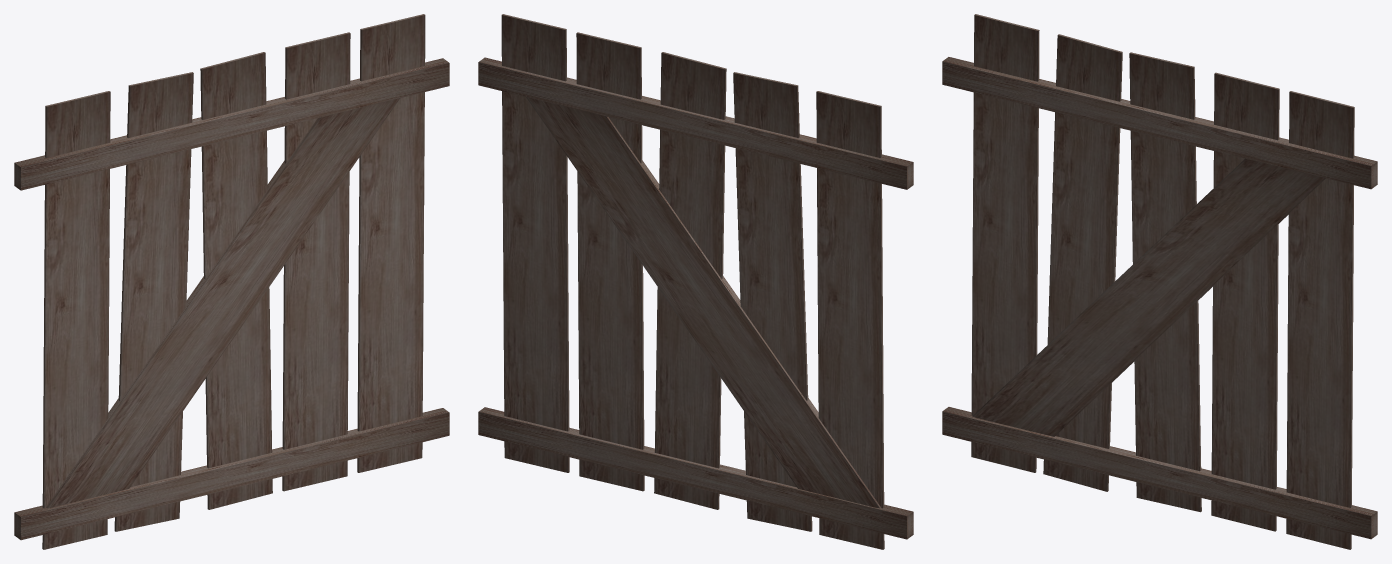
The model's file is wood wall.FBX.
The picture shows the model from 3 angles, left to right: view 1: azimuth 30°, elevation 25°; view 2: azimuth 150°, elevation 25°; view 3: azimuth 330°, elevation 25°; orthographic projection.
Visible parts, largest first — view 1: Plank2 (×2), Cross, Plank3, Plank4, Plank1, Top, Bottom; view 2: Plank2 (×2), Cross, Plank3, Plank4, Plank1, Top, Bottom; view 3: Plank2 (×2), Cross, Plank3, Plank4, Plank1, Top, Bottom.
Part boxes in pixels (x1,y1,x2,y2): Plank2 (×2): (42, 14, 425, 549); Cross: (46, 98, 400, 508); Plank3: (282, 32, 350, 491); Plank4: (200, 52, 272, 509); Plank1: (114, 72, 193, 531); Top: (14, 58, 449, 190); Bottom: (14, 408, 449, 540); Plank2 (×2): (501, 14, 884, 549); Cross: (526, 97, 880, 508); Plank3: (576, 32, 644, 491); Plank4: (654, 52, 726, 509); Plank1: (733, 72, 812, 531); Top: (478, 57, 913, 189); Bottom: (478, 407, 913, 539); Plank2 (×2): (971, 14, 1354, 549); Cross: (972, 158, 1325, 436); Plank3: (1211, 72, 1279, 531); Plank4: (1129, 52, 1201, 512); Plank1: (1043, 34, 1122, 491); Top: (942, 57, 1377, 189); Bottom: (942, 407, 1377, 539).
Bounding box in the file's own units: 44.74 × 44.37 × 1.16.
